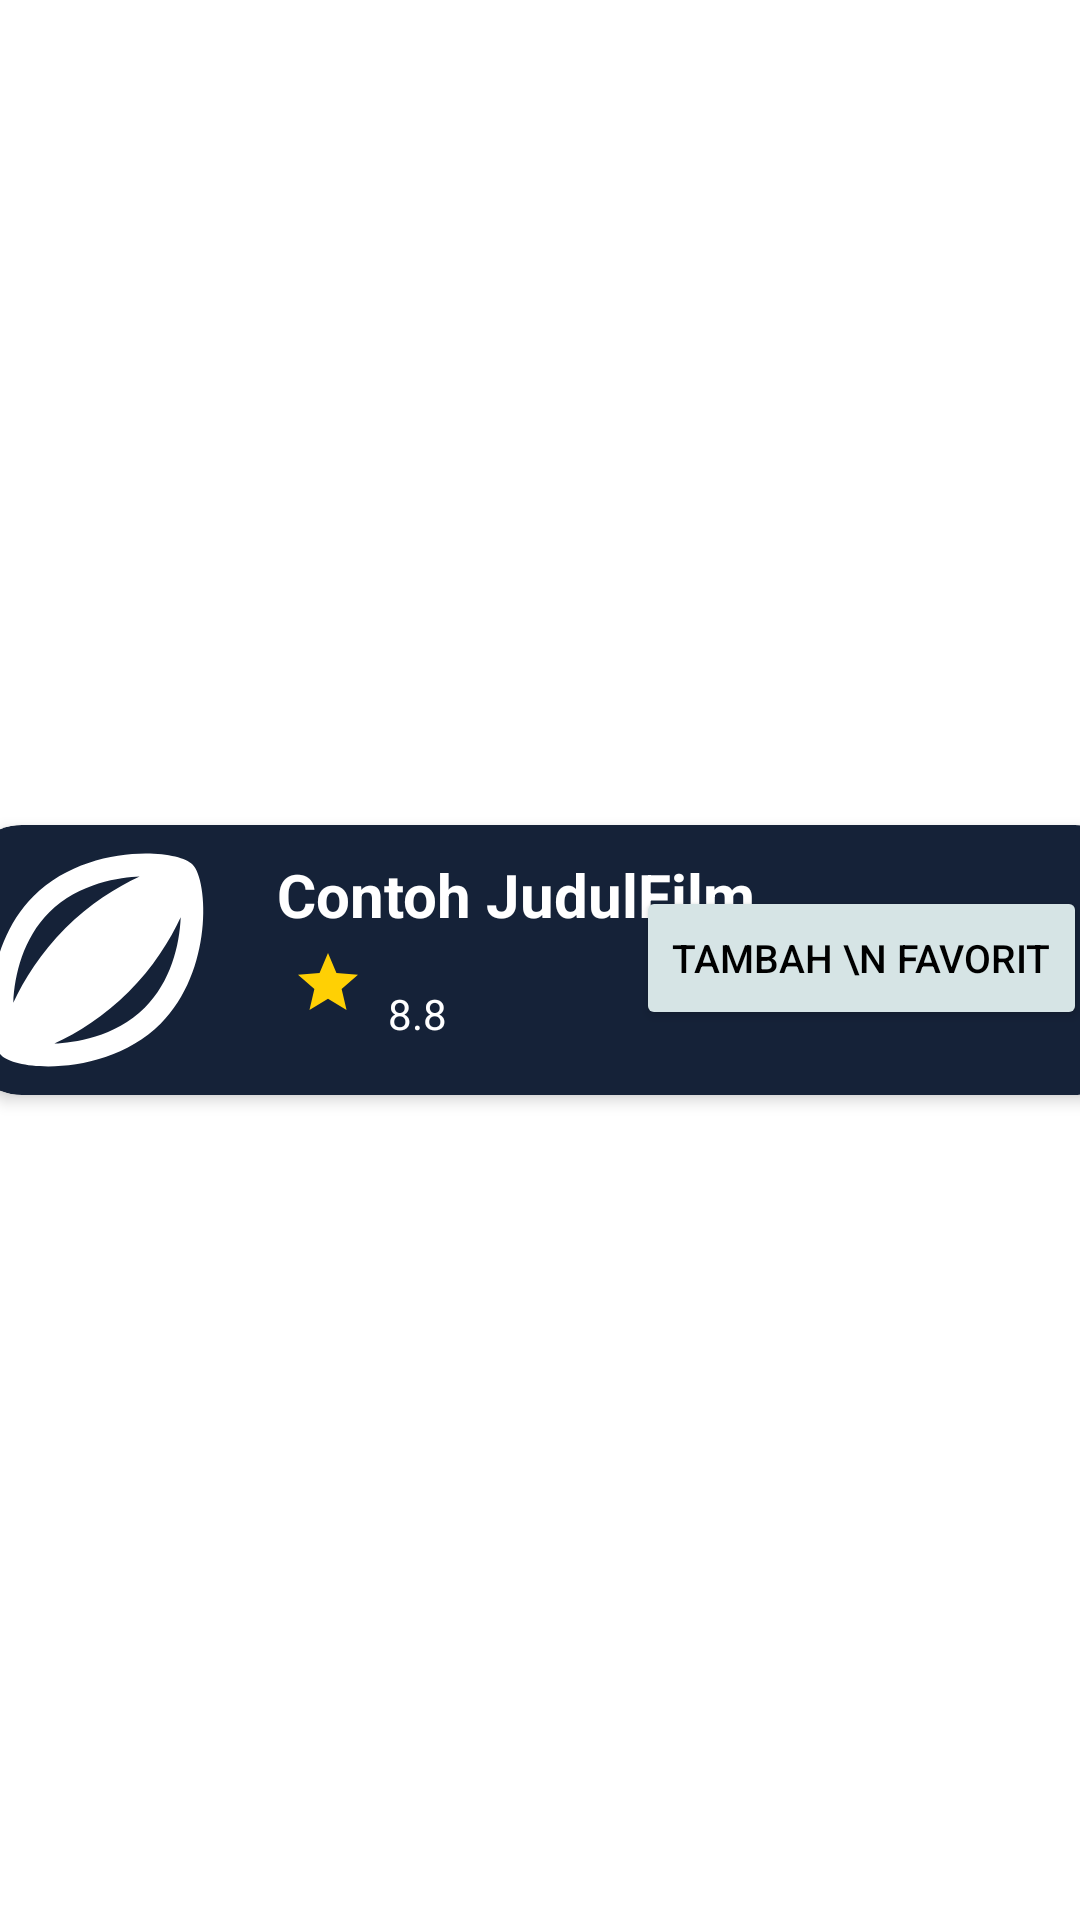

Screen size 1080px x 1920px. Icon name, then its center in pixels as point (x, y):
star: point (328, 981)
